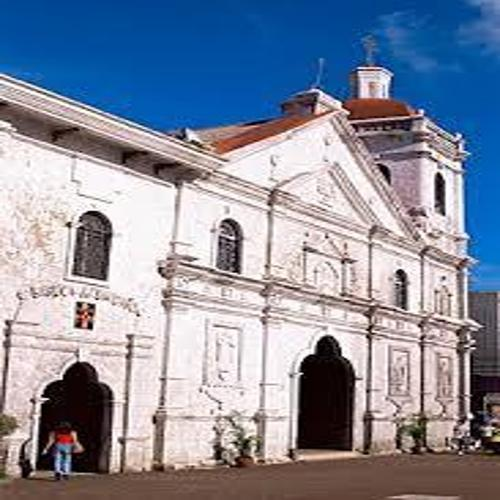Sto. Nino Basilica Church: (168, 37, 479, 471)
